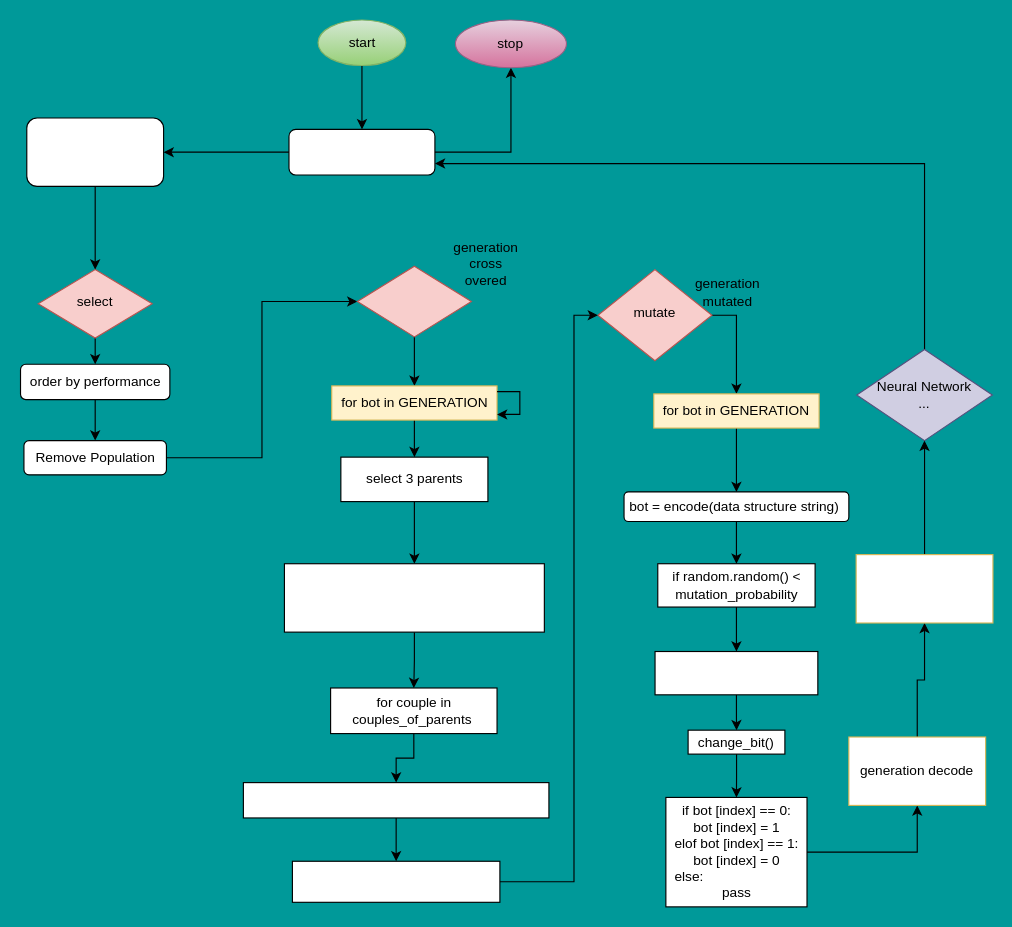
The diagram is 1012 pixels wide and 927 high, and some of its shapes have lost their labels. The centre of each missing label's shape, as x and y in pixels:
"encode parameters for neural network" belongs at pixel 924 588.
"for gen in range(n_generations)" belongs at pixel 361 151.
"generate 3 child and mix up it and generate 1 child" belongs at pixel 395 881.
"index = random.choice (range(len(bot)))" belongs at pixel 736 672.
"probability of parent = performance / tot performance" belongs at pixel 413 597.
"select 2 segment for each couple and generate a child from the two parents" belongs at pixel 395 799.
"test data structure for performance" belongs at pixel 95 151.
"xover" belongs at pixel 413 301.
